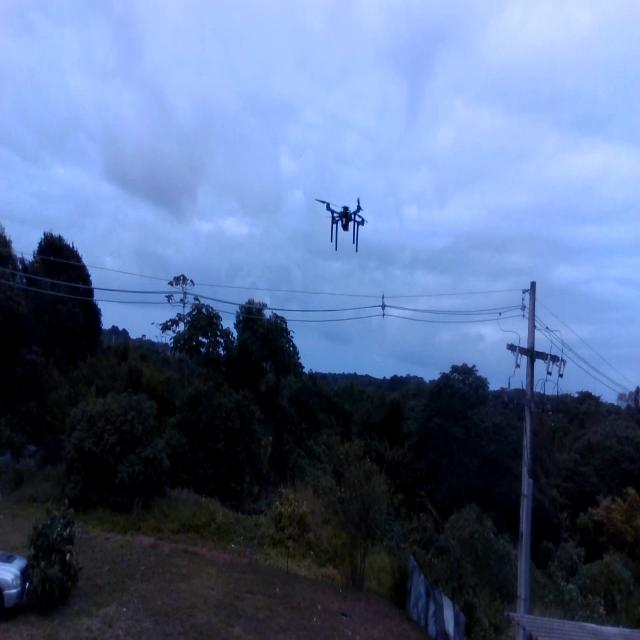-uav-: (311, 185, 376, 262)
